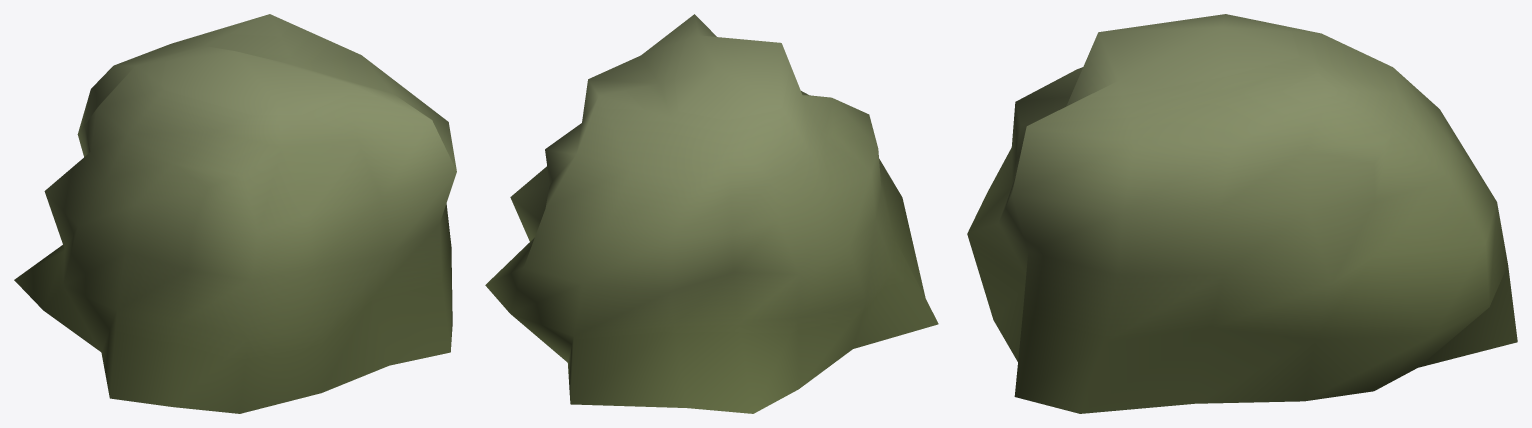
Rendered from WE02_Brush33.fbx.
The picture shows the model from 3 angles, left to right: view 1: azimuth 30°, elevation 25°; view 2: azimuth 150°, elevation 25°; view 3: azimuth 270°, elevation 25°; orthographic projection. The views are drawn at different scales.
Parts seen in each view (by area): view 1: WE02_Brush33; view 2: WE02_Brush33; view 3: WE02_Brush33.
Boxes of the visible parts, bbox=[...] form: WE02_Brush33: bbox=[14, 14, 456, 413]; WE02_Brush33: bbox=[485, 14, 938, 413]; WE02_Brush33: bbox=[967, 14, 1517, 413].
Size of the model in its own units: 6.97 by 5.05 by 8.37.
